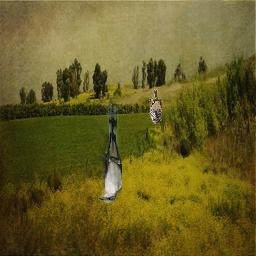Cuckoo: (98, 101, 122, 203)
Sparrow: (150, 90, 163, 125)
